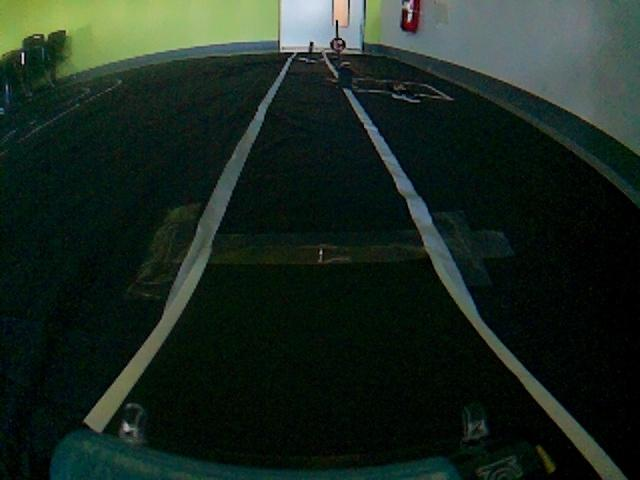go: (181, 86, 447, 298)
hill_down: (51, 302, 622, 474)
